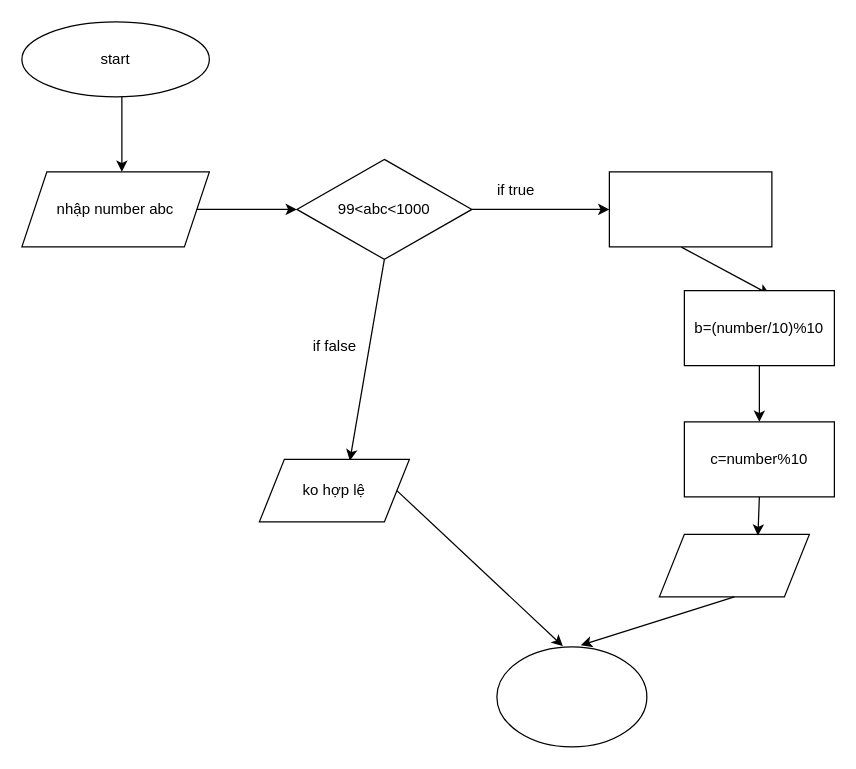
Some shapes in this 856 by 769 pixel diagram are drawn without their labels. The box of each missing label's shape, as (x1, y1, x2, y2) in pixels:
a=number/10: (608, 171, 772, 247)
end: (496, 646, 647, 747)
in ra cba: (658, 533, 809, 597)
